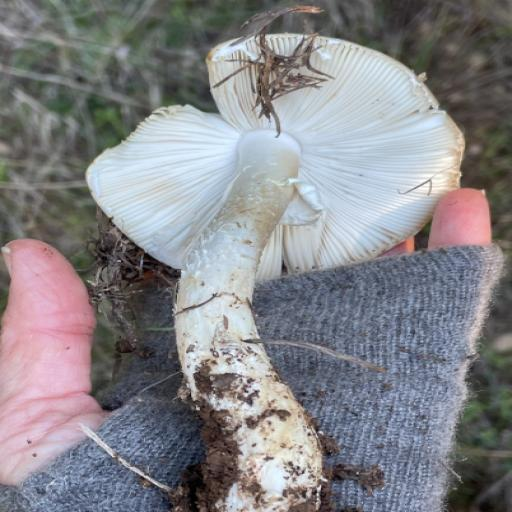mushroom: (0, 0, 479, 512)
